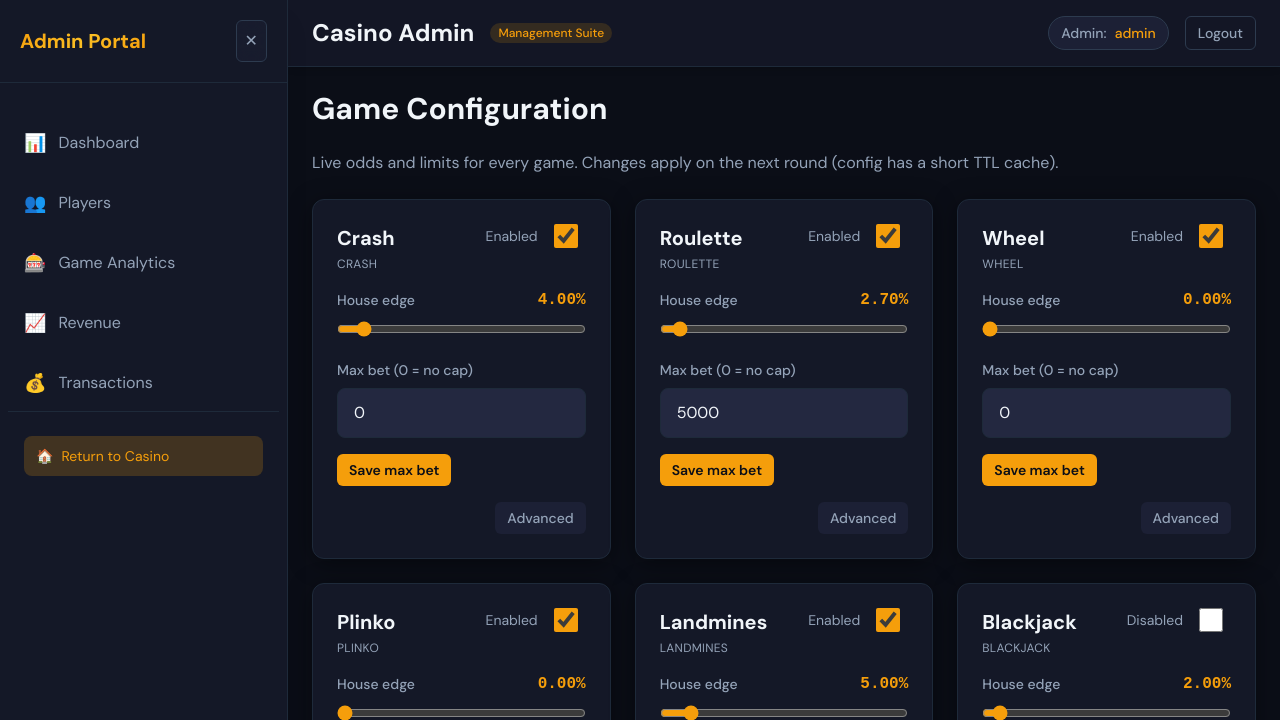
Test: GamesConfigPage › advanced payout editor modal › renders the Wheel editor when Advanced is opened for wheel
Click the button with test id "advanced-wheel".
click(1186, 518)  # box [1141,502,1231,534]
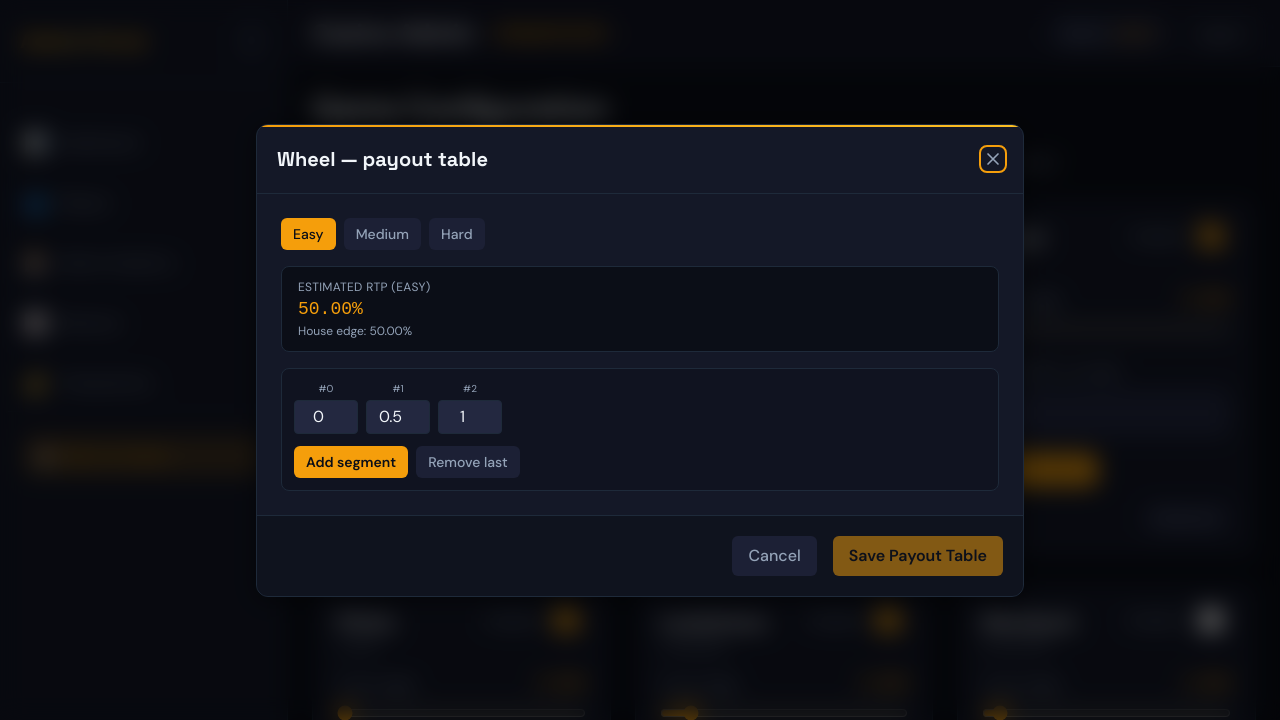
Now the element with test id "wheel-payout-editor" is shown, box [281,218,999,490]
